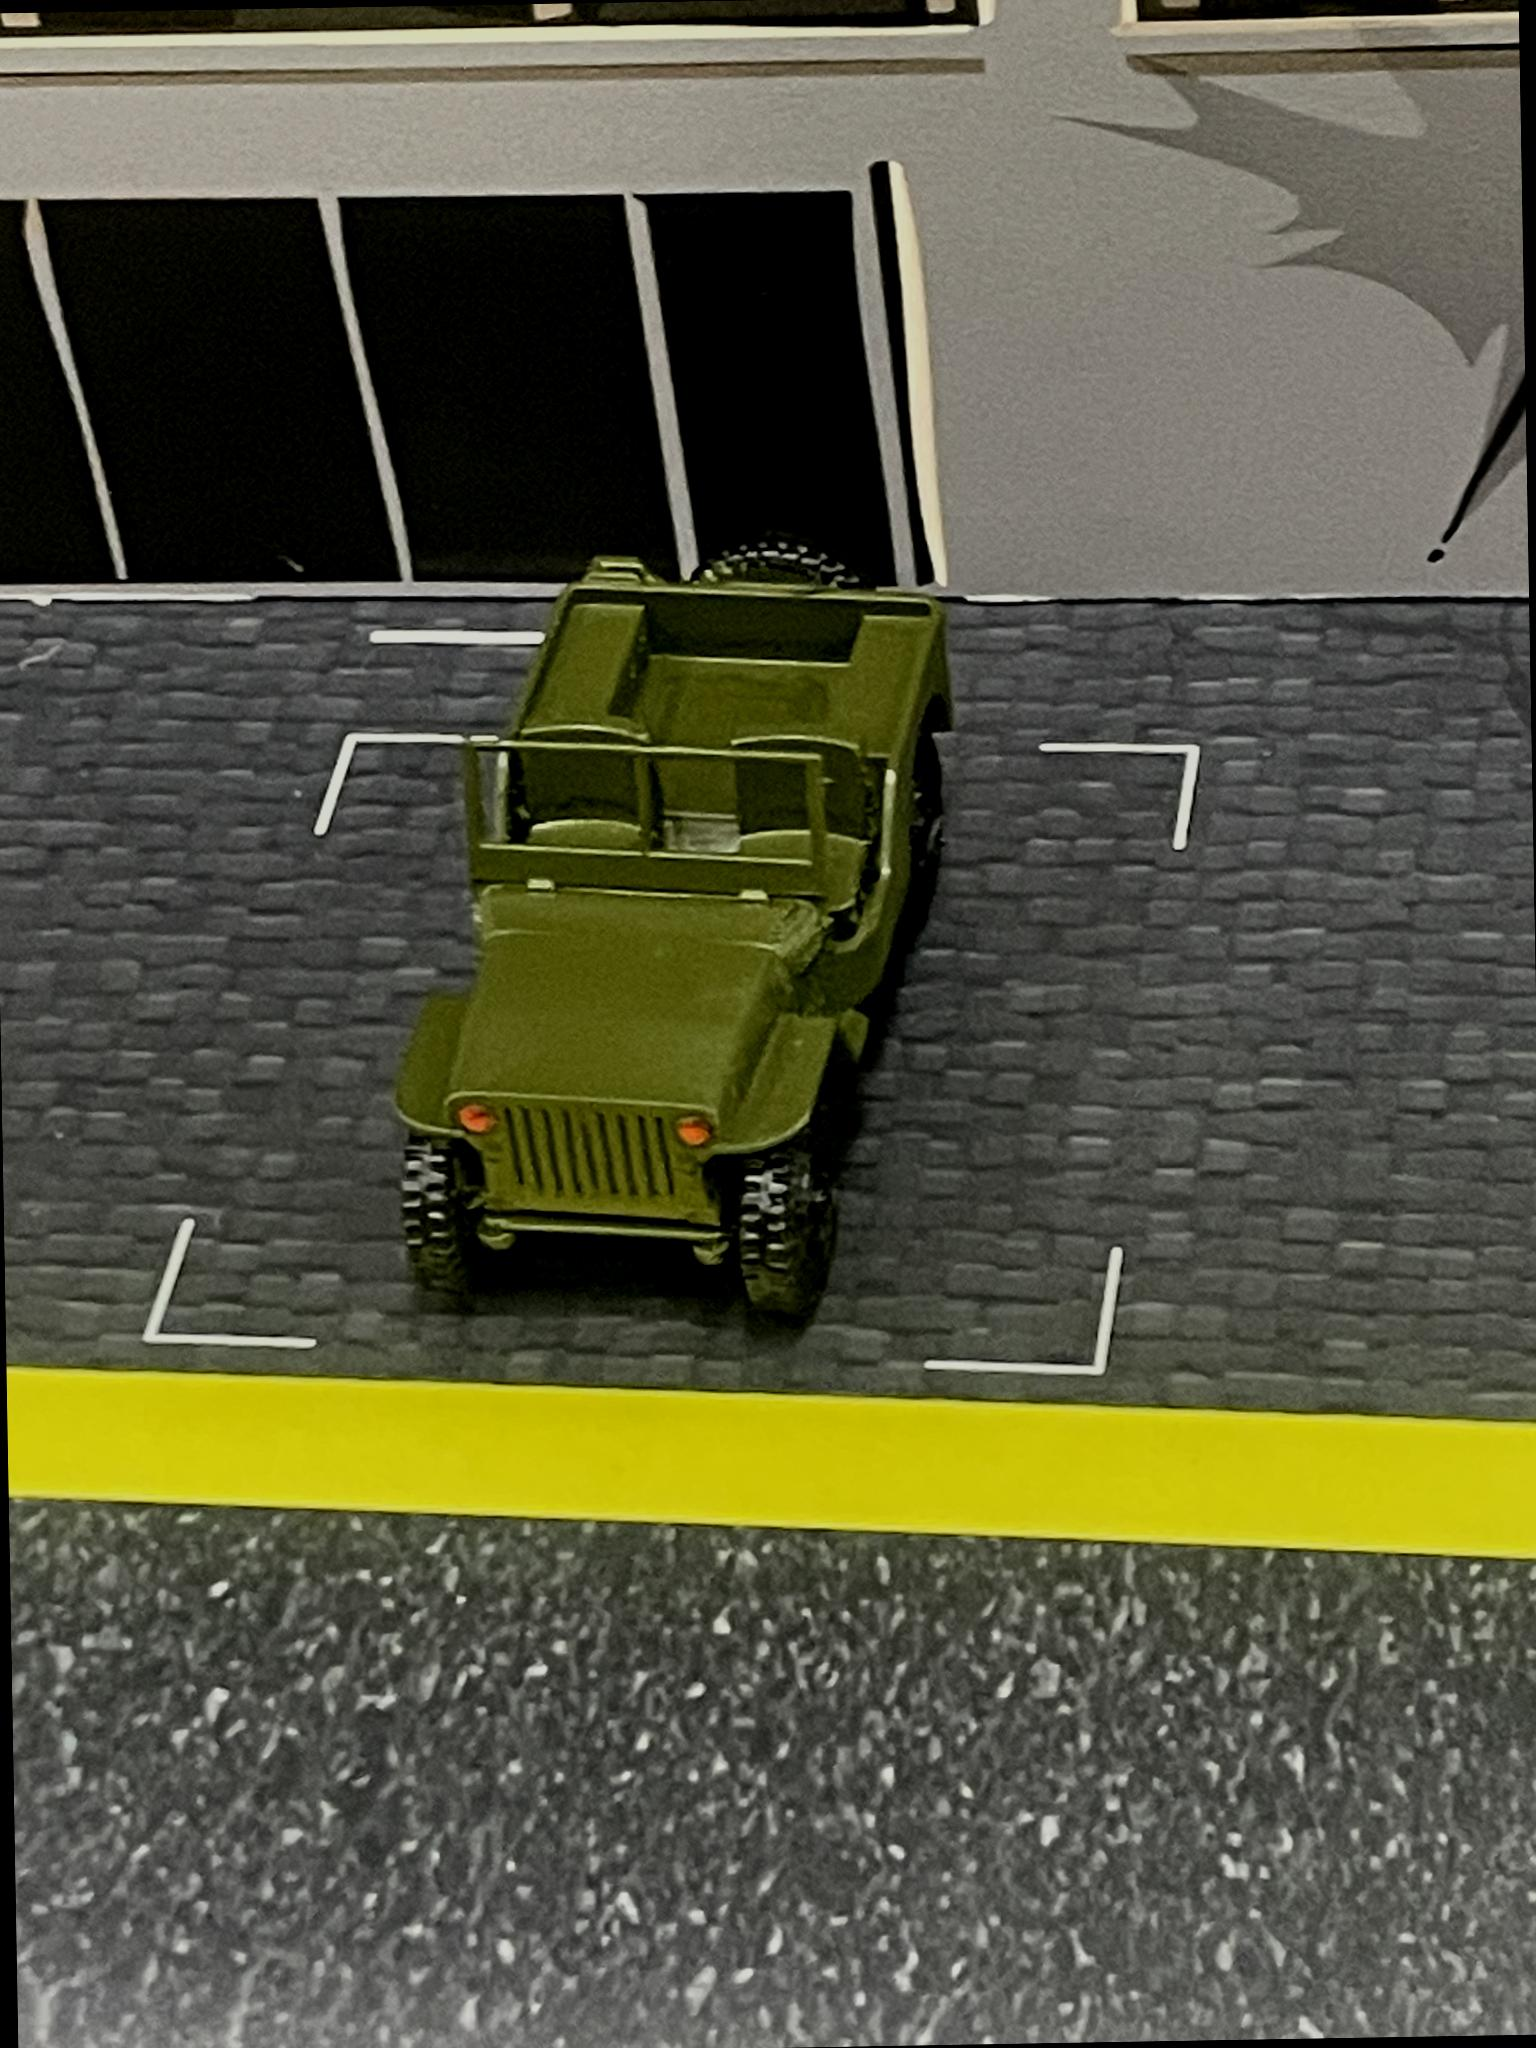Car: (373, 540, 978, 1343)
